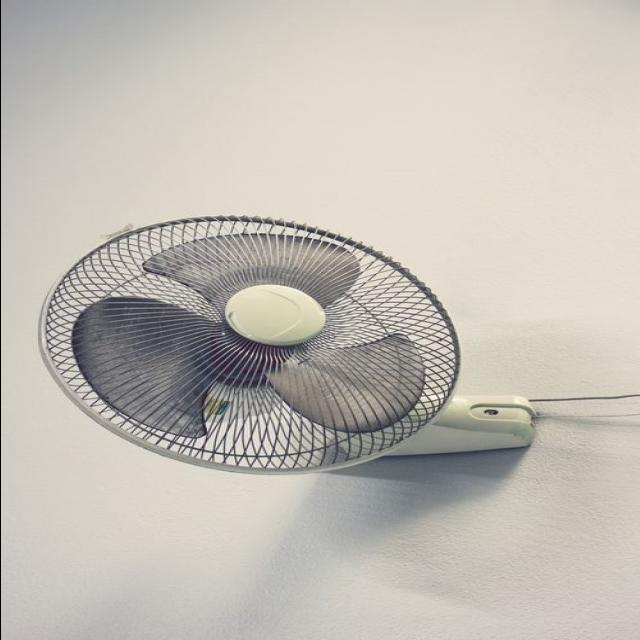fan: (44, 212, 554, 472)
